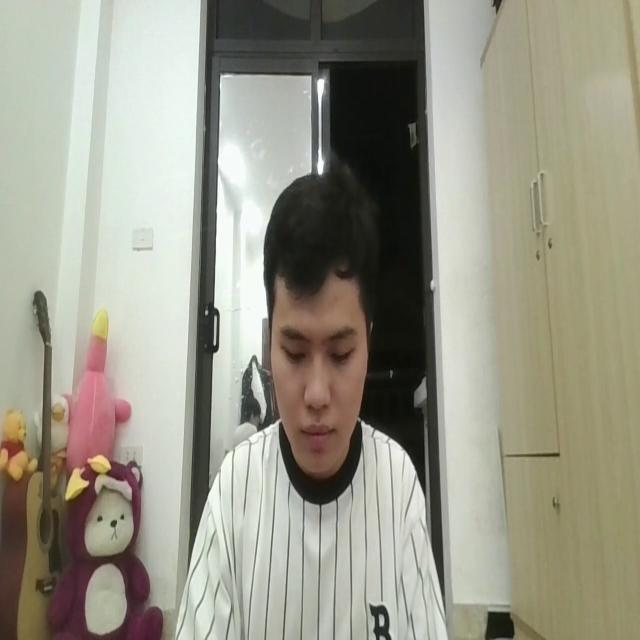student: (166, 170, 445, 640)
